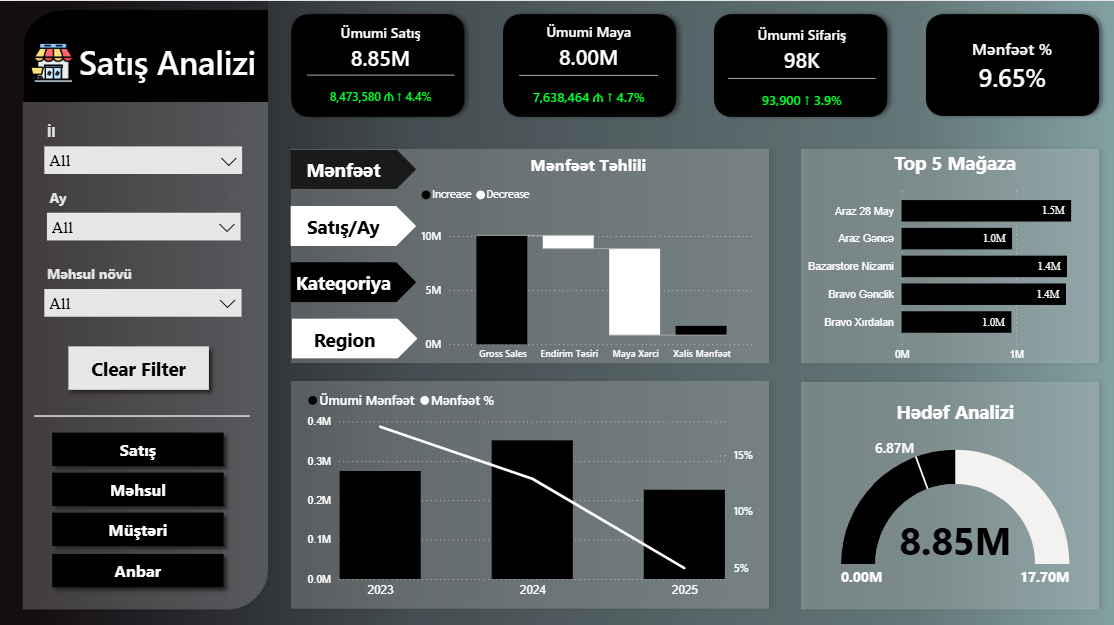

What the dashboard file says about the page in this screenshot:
{"tool":"powerbi","page":{"name":"Satış","canvas":[1280,720],"ordinal":0},"visuals":[{"type":"textbox","box":[72.7,39.8,241.5,67.2],"z":0},{"type":"image","box":[32.6,39.8,54.3,61.5],"z":1000},{"type":"slicer","fields":{"Values":["DimDate.MonthName"]},"box":[45.8,208.7,241.3,86.9],"z":3000},{"type":"slicer","fields":{"Values":["DimDate.Year"]},"box":[43.4,132.7,246.1,83.2],"z":4000},{"type":"actionButton","box":[71.2,386.1,178.6,67.6],"z":5000},{"type":"shape","box":[41,435.5,246.1,77.2],"z":6000},{"type":"actionButton","box":[53.5,484.4,214.1,56.3],"z":7000},{"type":"actionButton","box":[53.5,529.7,214.1,56.3],"z":8000},{"type":"actionButton","box":[53.5,576.3,214.1,56.3],"z":9000},{"type":"actionButton","box":[53.5,623,214.1,56.3],"z":10000},{"type":"cardVisual","fields":{"Data":["Ölçülər.Ümumi Satış"]},"box":[335.4,4.8,203.9,159.3],"z":11000},{"type":"cardVisual","fields":{"Data":["Ölçülər.Ümumi Maya"]},"box":[579.1,1.2,193,166.5],"z":12000},{"type":"cardVisual","fields":{"Data":["Ölçülər.Ümumi sifariş"]},"box":[816.8,6,203.9,165.3],"z":13000},{"type":"cardVisual","fields":{"Data":["Ölçülər.Profit Margin %"]},"box":[1058,6,201.5,136.3],"z":14000},{"type":"shape","box":[334.2,233.6,143.6,45.8],"z":16000},{"type":"shape","box":[334.2,170.1,143.6,44.6],"z":17000},{"type":"shape","box":[334.2,298.4,143.6,45.8],"z":18000},{"type":"shape","box":[335.4,363.1,143.6,45.8],"z":19000},{"type":"waterfallChart","title":"Mənfəət Təhlili","fields":{"Category":["Waterfall_Table.Növ"],"Y":["Waterfall_Table.Waterfall Dəyər"]},"box":[479,173.7,392.1,246.1],"z":20000},{"type":"barChart","title":"Top 5 Mağaza","fields":{"Category":["DimStore.StoreName"],"Y":["Ölçülər.Ümumi Satış"]},"box":[913.3,170.1,361.9,249.7],"z":26000},{"type":"gauge","title":"Hədəf Analizi","fields":{"Y":["Ölçülər.Ümumi Satış"],"TargetValue":["Ölçülər.Target"]},"box":[918.1,453.6,351.1,225.6],"z":27000},{"type":"lineClusteredColumnComboChart","fields":{"Category":["DimDate.Year"],"Y2":["Ölçülər.Mənfəət %"],"Y":["Ölçülər.Ümumi Mənfəət"]},"box":[348.7,435.5,522.4,254.6],"z":28000},{"type":"slicer","fields":{"Values":["DimProduct.Segment"]},"box":[43.4,295.6,244.9,80.8],"z":29500}]}

Visuals, with their boxes in screenshot pixels (x1, y1, x2, y2), scaled from the page's 1280x720 canvas onto the 1114x625 screenshot:
textbox: [63, 35, 273, 93]
image: [28, 35, 76, 88]
slicer - DimDate.MonthName: [40, 181, 250, 257]
slicer - DimDate.Year: [38, 115, 252, 187]
actionButton: [62, 335, 217, 394]
shape: [36, 378, 250, 445]
actionButton: [47, 420, 233, 469]
actionButton: [47, 460, 233, 509]
actionButton: [47, 500, 233, 549]
actionButton: [47, 541, 233, 590]
cardVisual - Ölçülər.Ümumi Satış: [292, 4, 469, 142]
cardVisual - Ölçülər.Ümumi Maya: [504, 1, 672, 146]
cardVisual - Ölçülər.Ümumi sifariş: [711, 5, 888, 149]
cardVisual - Ölçülər.Profit Margin %: [921, 5, 1096, 124]
shape: [291, 203, 416, 243]
shape: [291, 148, 416, 186]
shape: [291, 259, 416, 299]
shape: [292, 315, 417, 355]
"Mənfəət Təhlili" waterfallChart: [417, 151, 758, 364]
"Top 5 Mağaza" barChart: [795, 148, 1110, 364]
"Hədəf Analizi" gauge: [799, 394, 1105, 590]
lineClusteredColumnComboChart - DimDate.Year x Ölçülər.Mənfəət %: [303, 378, 758, 599]
slicer - DimProduct.Segment: [38, 257, 251, 327]
